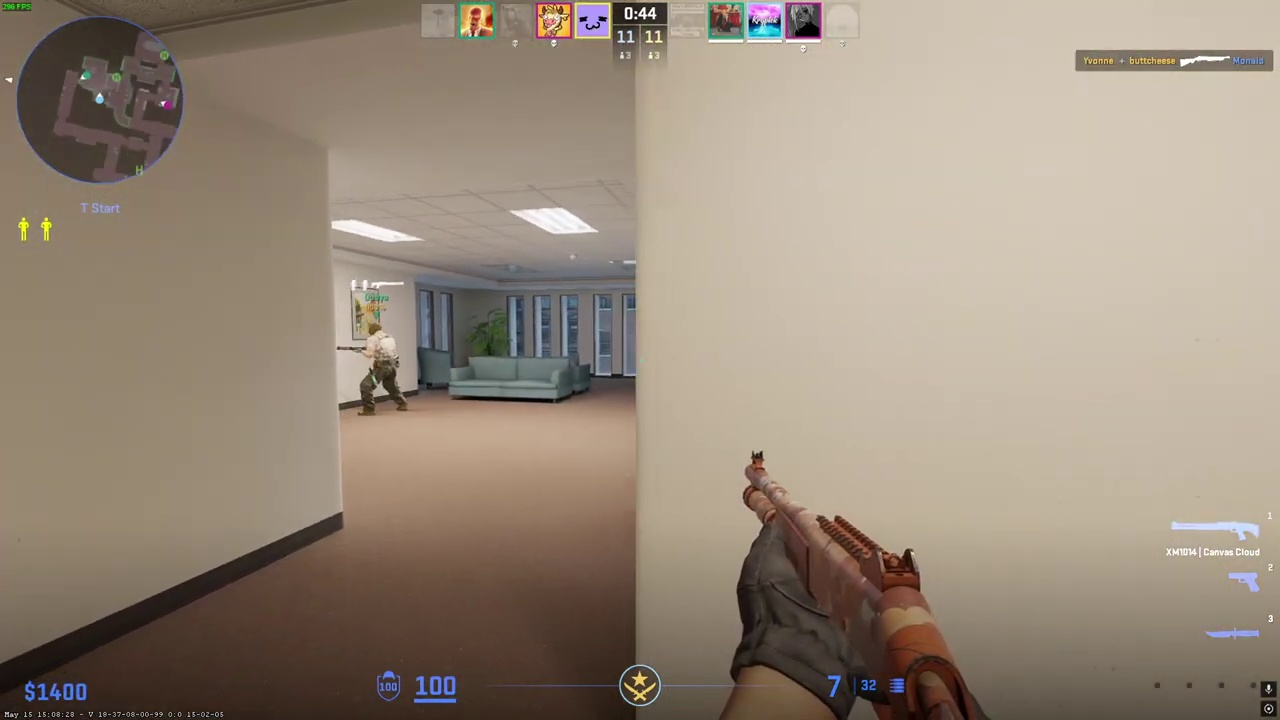Terrorist: (357, 323, 405, 415)
